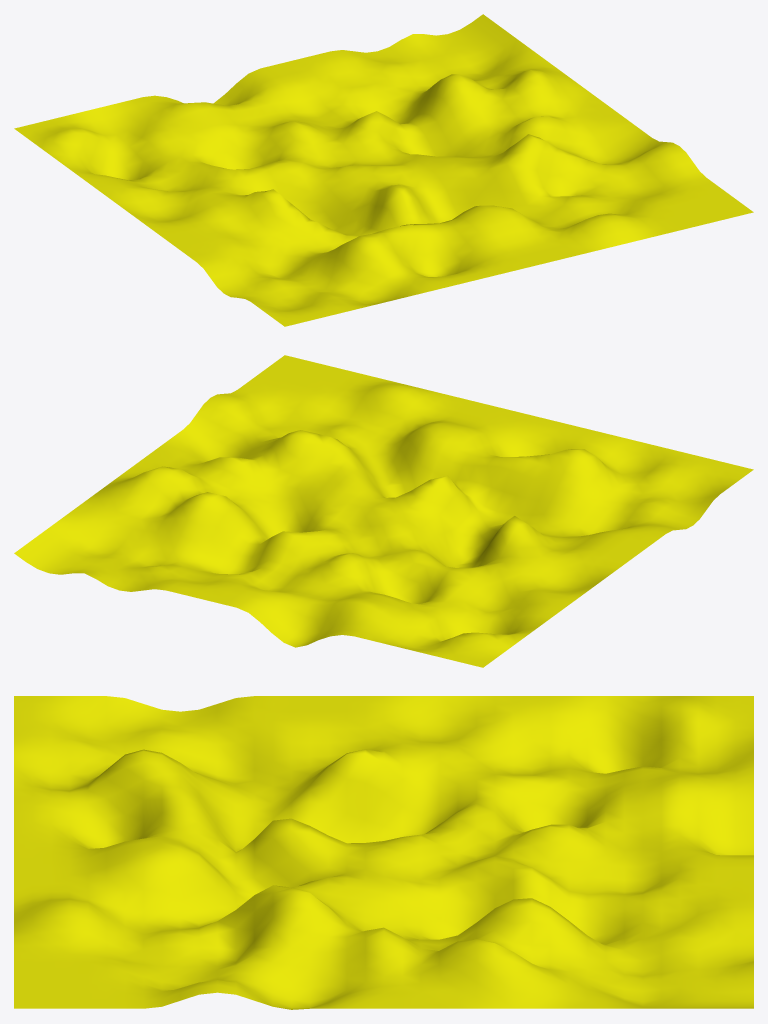
File: Ground.fbx
3 views of the same model, one above another, from view 1: azimuth 30°, elevation 25°; view 2: azimuth 150°, elevation 25°; view 3: azimuth 270°, elevation 25° (orthographic). The views are drawn at different scales.
Parts seen in each view (by area): view 1: pPlane1; view 2: pPlane1; view 3: pPlane1.
Boxes of the visible parts, <box> form: pPlane1: <box>14,14,753,326</box>; pPlane1: <box>14,355,753,667</box>; pPlane1: <box>14,696,753,1009</box>.
Bounding box in the file's own units: 50 × 6.98 × 50.
